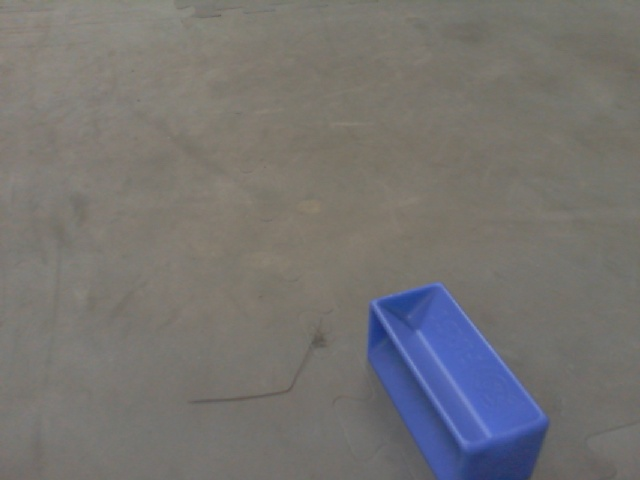BlueSample: (367, 279, 553, 480)
